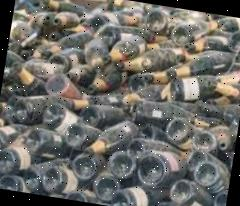glass: (132, 144, 191, 193), (100, 28, 150, 70), (38, 99, 87, 138), (60, 120, 104, 157), (102, 148, 136, 184), (190, 128, 222, 160)
